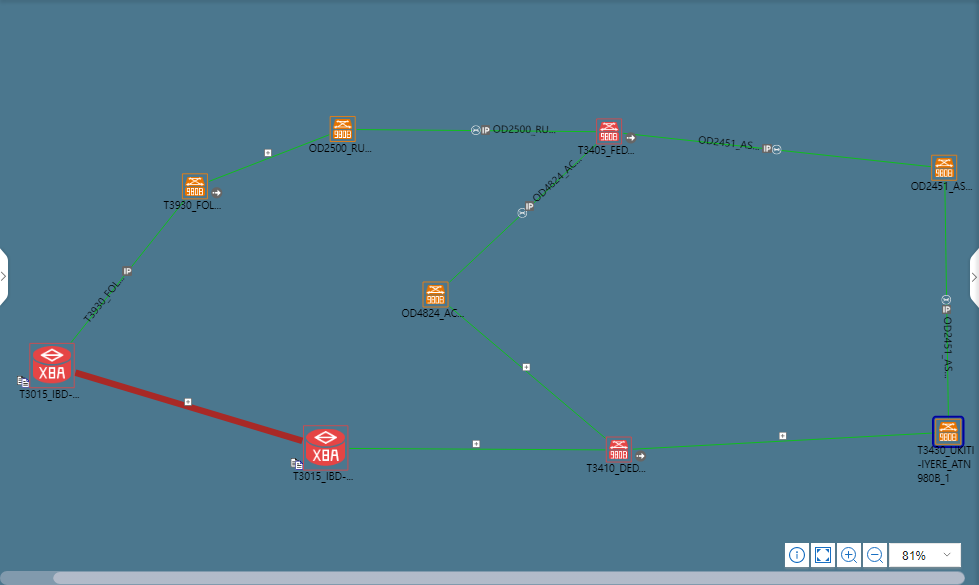ATN_Orange: (933, 418, 962, 447), (933, 155, 955, 184), (187, 173, 210, 196), (333, 118, 356, 140), (425, 283, 448, 305)
ATN_Red: (609, 436, 629, 465), (597, 118, 618, 141)
Link_Green: (450, 302, 607, 441), (450, 143, 594, 280), (70, 204, 179, 341), (627, 130, 932, 172), (633, 430, 927, 453), (211, 130, 332, 181)
Link_Red: (76, 369, 307, 447)
Router_Red: (303, 424, 350, 471), (28, 345, 75, 384)
